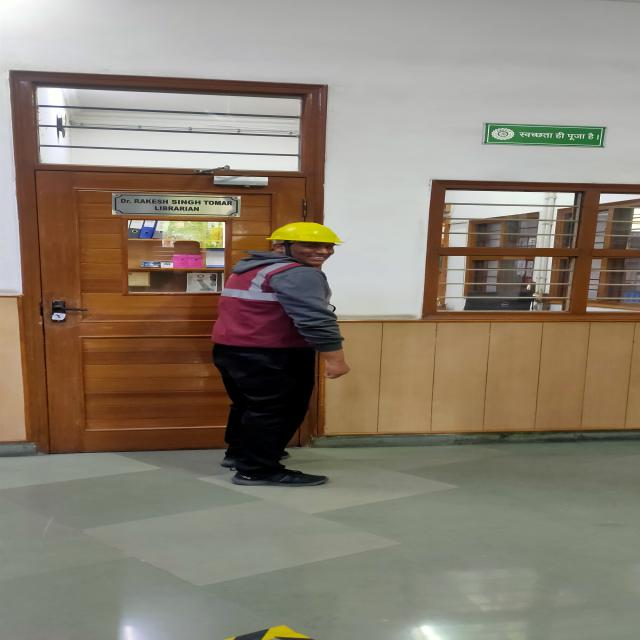safe: (212, 222, 346, 486)
